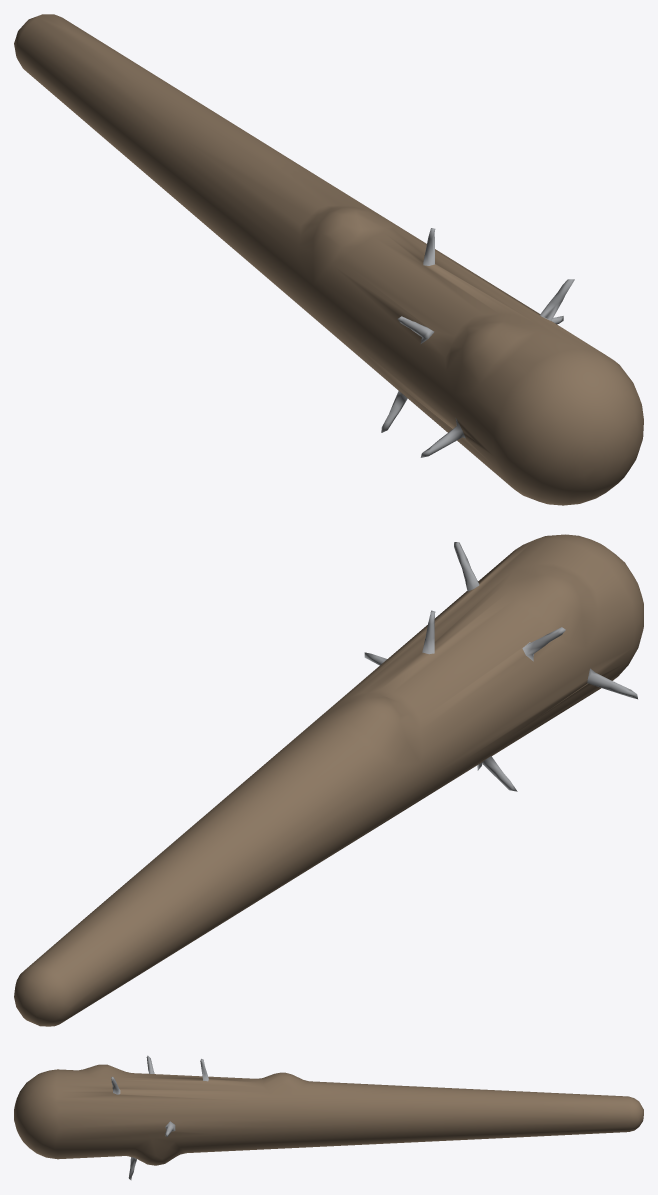
The model's file is Club.fbx.
3 views of the same model, one above another, from view 1: azimuth 30°, elevation 25°; view 2: azimuth 150°, elevation 25°; view 3: azimuth 270°, elevation 25° (orthographic). The views are drawn at different scales.
Visible parts, largest first — view 1: Club; view 2: Club; view 3: Club.
Boxes of the visible parts, bbox=[...] form: Club: bbox=[14, 14, 643, 505]; Club: bbox=[14, 534, 643, 1026]; Club: bbox=[14, 1055, 643, 1180].
Size of the model in its own units: 8.85 by 8.58 by 42.17.
